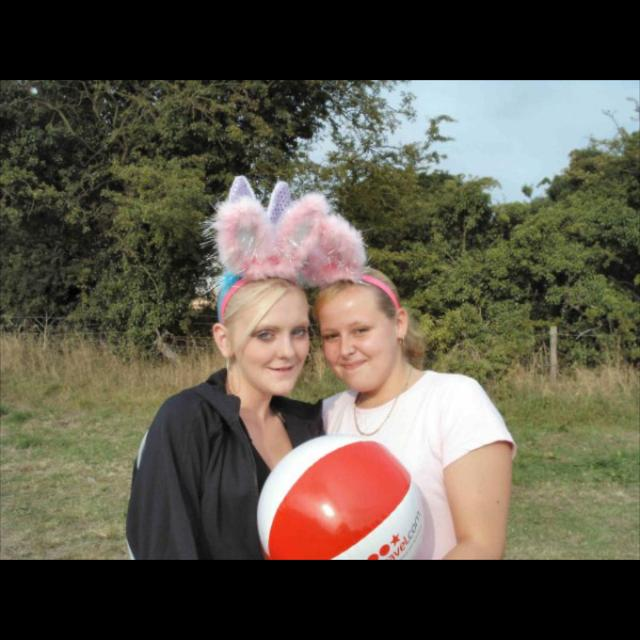Football: (253, 432, 424, 558)
